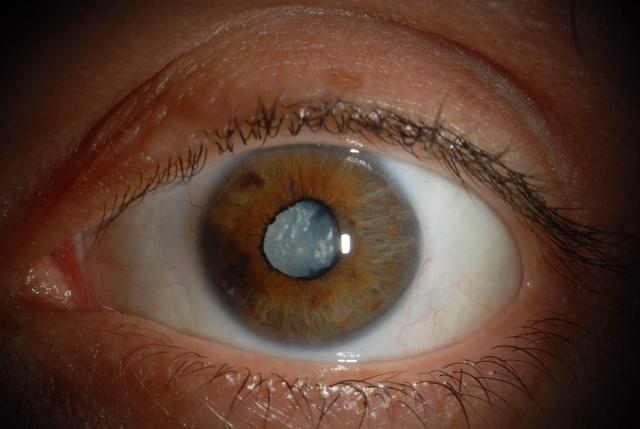eye: (194, 139, 426, 347)
